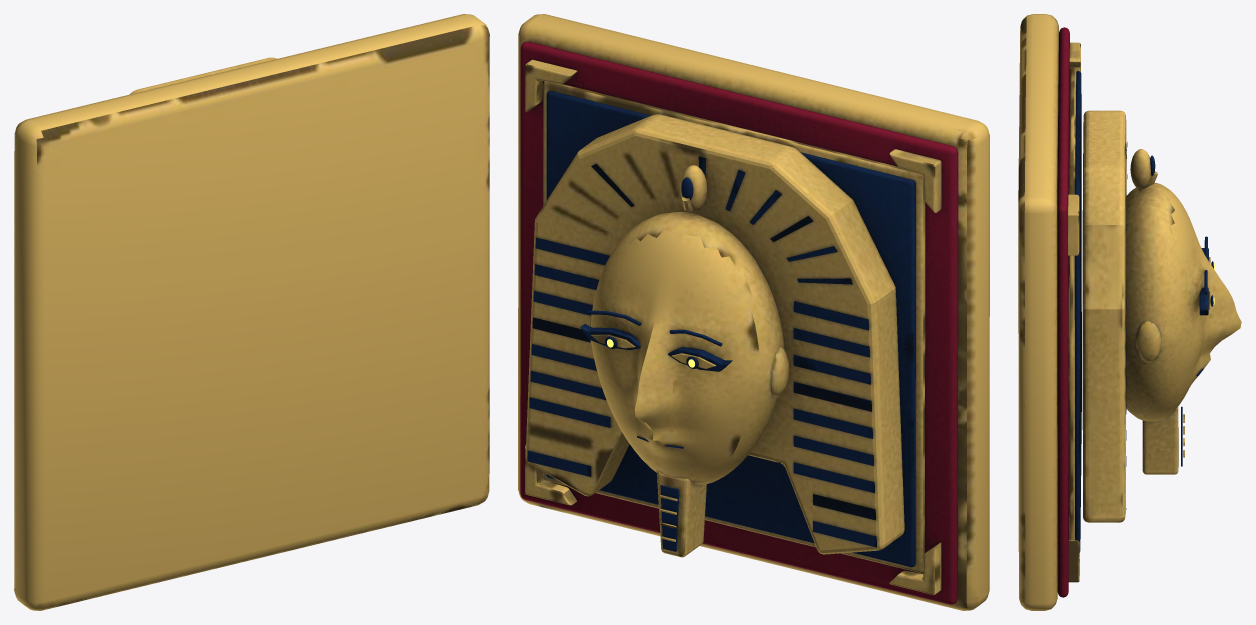
3 views of the same model, side by side, from view 1: azimuth 30°, elevation 25°; view 2: azimuth 150°, elevation 25°; view 3: azimuth 270°, elevation 25° (orthographic). The views are drawn at different scales.
Visible parts, largest first — view 1: Sculpted_gold; view 2: Sculpted_gold, Lapis_enamel, Crimson_enamel; view 3: Sculpted_gold, Crimson_enamel, Lapis_enamel.
Part boxes in pixels (bbox=[...]): Sculpted_gold: bbox=[14, 14, 489, 610]; Sculpted_gold: bbox=[518, 14, 989, 610]; Lapis_enamel: bbox=[527, 90, 915, 567]; Crimson_enamel: bbox=[520, 41, 958, 604]; Sculpted_gold: bbox=[1018, 14, 1241, 610]; Crimson_enamel: bbox=[1057, 27, 1069, 597]; Lapis_enamel: bbox=[1074, 71, 1213, 552].
Bounding box in the file's own units: 0.8801 × 0.88 × 0.4314.
Materials: 4 (3 with a texture image).
